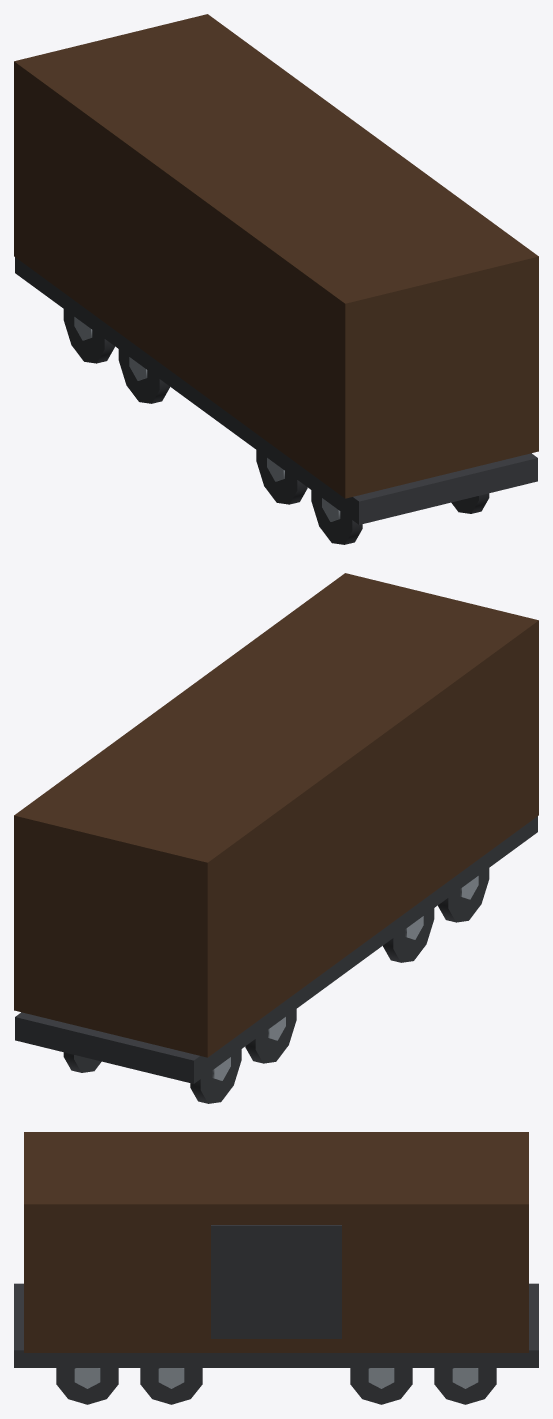
The model's file is veh_ground_rail_wagon_a06.glb.
The picture shows the model from 3 angles, top to bottom: view 1: azimuth 30°, elevation 25°; view 2: azimuth 150°, elevation 25°; view 3: azimuth 270°, elevation 25°; orthographic projection. The views are drawn at different scales.
Visible parts, largest first — view 1: body, wheel_6, wheel_2, wheel_0, wheel_4; view 2: body, wheel_0, wheel_4, wheel_2, wheel_6; view 3: body, wheel_1, wheel_3, wheel_5, wheel_7.
Boxes of the visible parts, x1=… form: body: x1=14, y1=14, x2=538, y2=524; wheel_6: x1=311, y1=490, x2=362, y2=544; wheel_2: x1=118, y1=349, x2=169, y2=403; wheel_0: x1=63, y1=309, x2=114, y2=363; wheel_4: x1=256, y1=450, x2=307, y2=504; body: x1=14, y1=573, x2=538, y2=1083; wheel_0: x1=190, y1=1049, x2=241, y2=1103; wheel_4: x1=383, y1=908, x2=434, y2=962; wheel_2: x1=245, y1=1009, x2=296, y2=1063; wheel_6: x1=438, y1=868, x2=489, y2=922; body: x1=14, y1=1132, x2=538, y2=1367; wheel_1: x1=434, y1=1368, x2=496, y2=1404; wheel_3: x1=350, y1=1368, x2=412, y2=1404; wheel_5: x1=140, y1=1368, x2=202, y2=1404; wheel_7: x1=56, y1=1368, x2=118, y2=1404.
Size of what is drawn, in the model's own units: 2.63 by 3.55 by 8.
